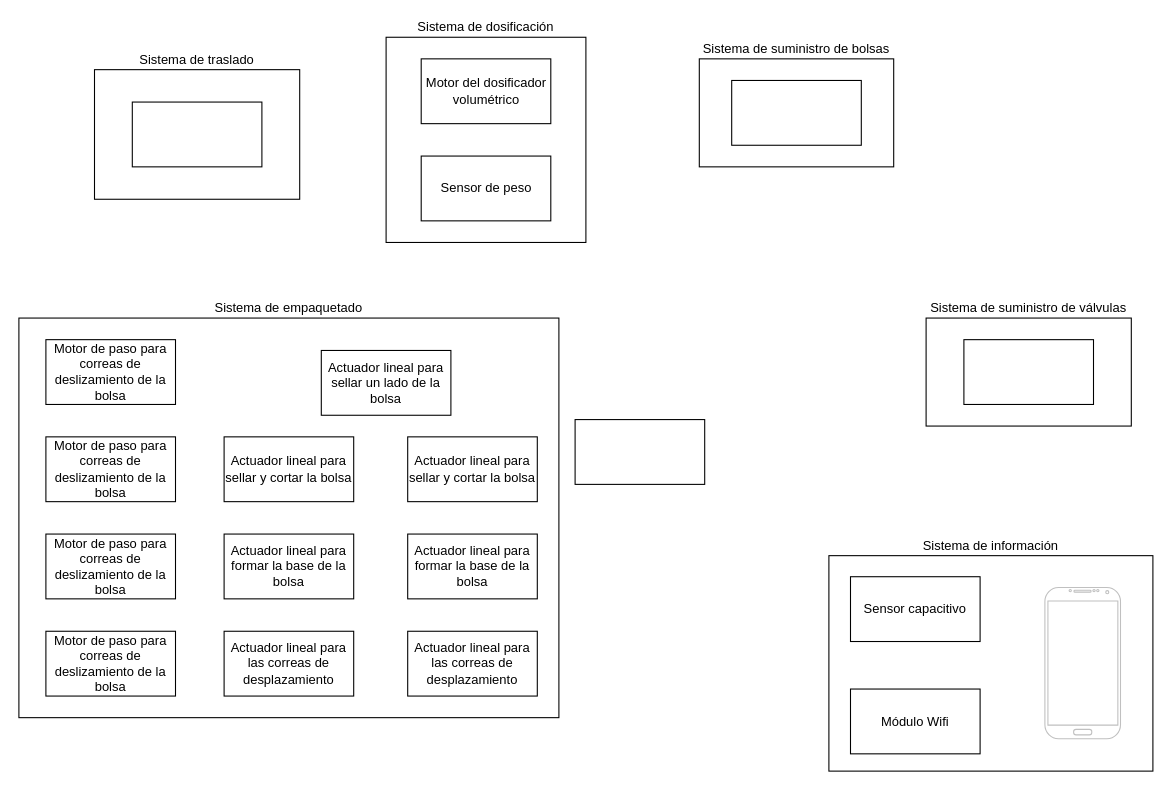
Image size: 1172x789. Some labels were removed from this diagram. The shapes that lost their labels are listed below. From the top down, each one's centre as x and y in pixels, then its label:
point (796, 112): Motor de paso para suministrar el plástico de la bolsa
point (196, 134): Motor del transportador helicoidal
point (1028, 371): Actuador lineal colocador de válvulas
point (639, 451): Controlador
